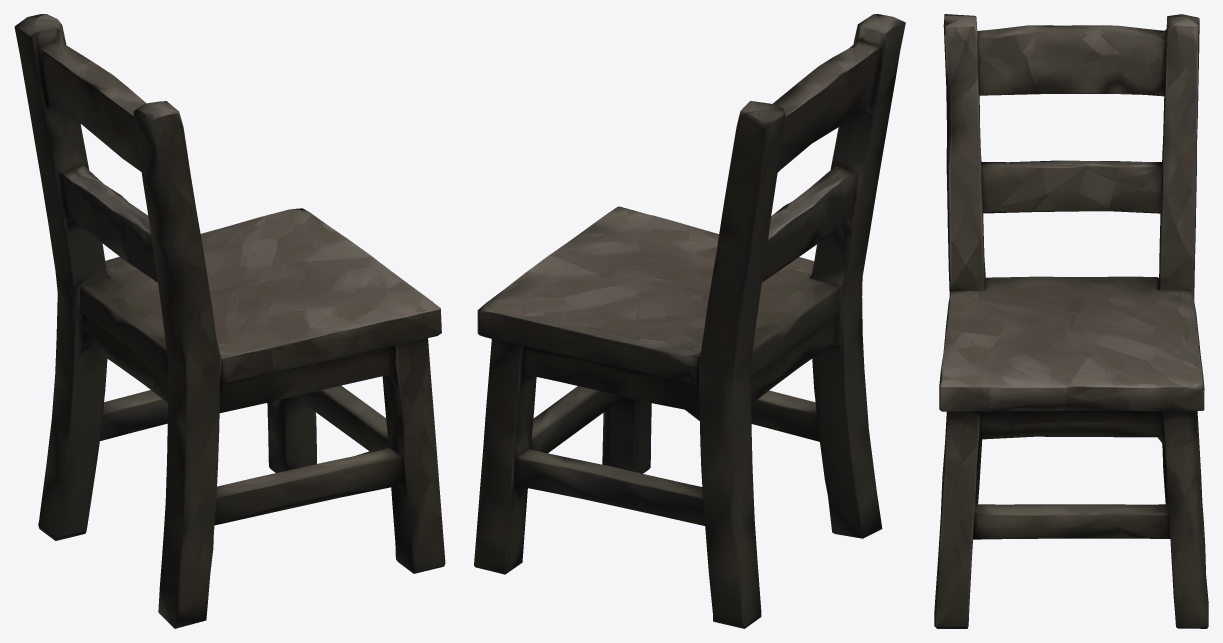
Rendered from wooden_chair_ladderback.glb.
3 renders of one model, left to right at view 1: azimuth 30°, elevation 25°; view 2: azimuth 150°, elevation 25°; view 3: azimuth 270°, elevation 25°, orthographic. The views are drawn at different scales.
Visible parts, largest first — view 1: tripo_node_01fdf00b-a87c-4c3d-bdf4-3b92776c24d8; view 2: tripo_node_01fdf00b-a87c-4c3d-bdf4-3b92776c24d8; view 3: tripo_node_01fdf00b-a87c-4c3d-bdf4-3b92776c24d8.
Boxes of the visible parts, x1,y1,x2,y2 form: tripo_node_01fdf00b-a87c-4c3d-bdf4-3b92776c24d8: [14, 14, 445, 628]; tripo_node_01fdf00b-a87c-4c3d-bdf4-3b92776c24d8: [474, 14, 905, 628]; tripo_node_01fdf00b-a87c-4c3d-bdf4-3b92776c24d8: [934, 14, 1208, 628].
Bounding box in the file's own units: 0.5901 × 1 × 0.5116.
Materials: 1 (1 with a texture image).
